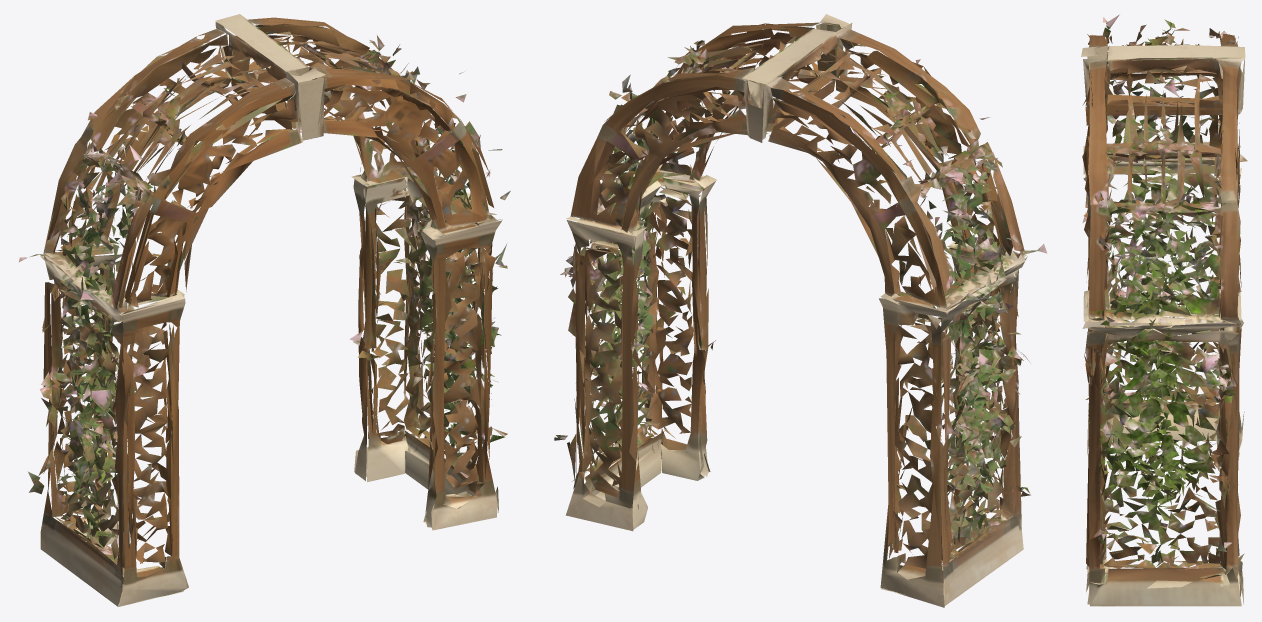
Rendered from unified--detail--garden-arch.glb.
3 views of the same model, side by side, from view 1: azimuth 30°, elevation 25°; view 2: azimuth 150°, elevation 25°; view 3: azimuth 270°, elevation 25° (orthographic). The views are drawn at different scales.
Parts seen in each view (by area): view 1: garden-arch-0; view 2: garden-arch-0; view 3: garden-arch-0.
Part boxes in pixels (bbox=[...]): garden-arch-0: bbox=[18, 14, 510, 606]; garden-arch-0: bbox=[554, 14, 1047, 607]; garden-arch-0: bbox=[1081, 14, 1247, 606].
Size of the model in its own units: 2.43 by 2.51 by 0.8095.
Materials: 1 (1 with a texture image).
